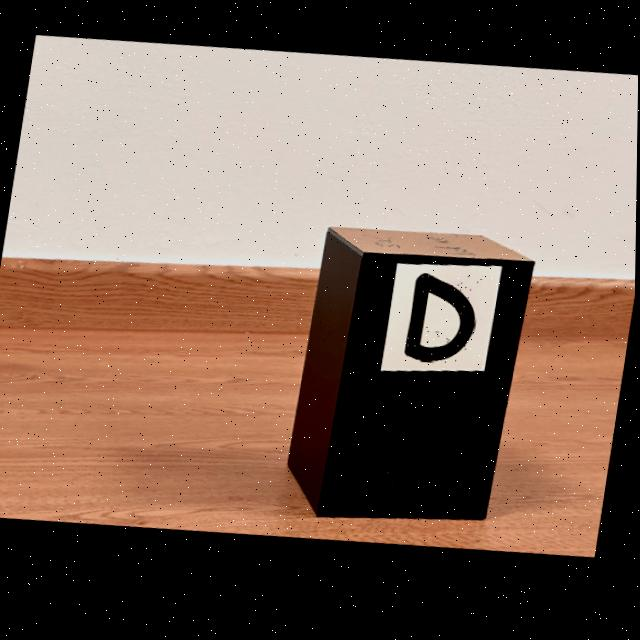D: (406, 281, 477, 369)
